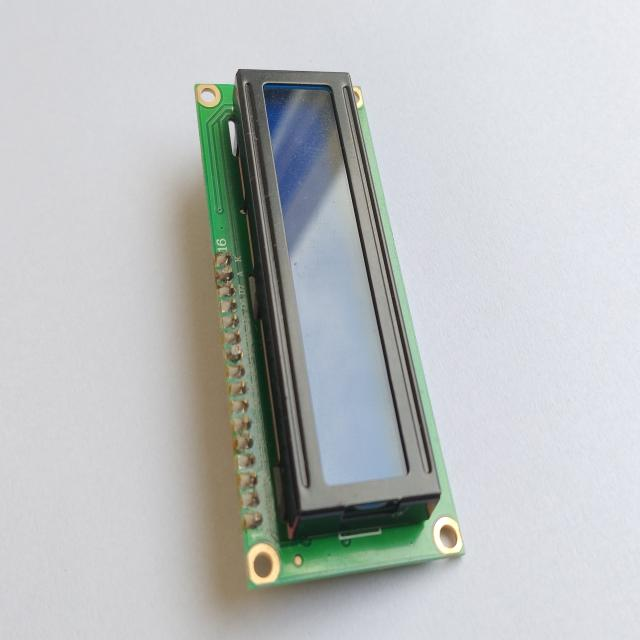lcd: (194, 67, 466, 590)
